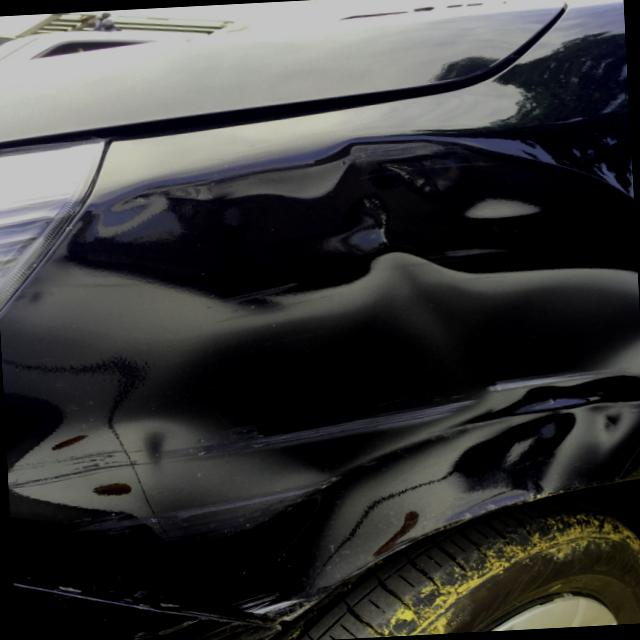Rayure: (3, 362, 608, 512), (14, 571, 331, 640)
